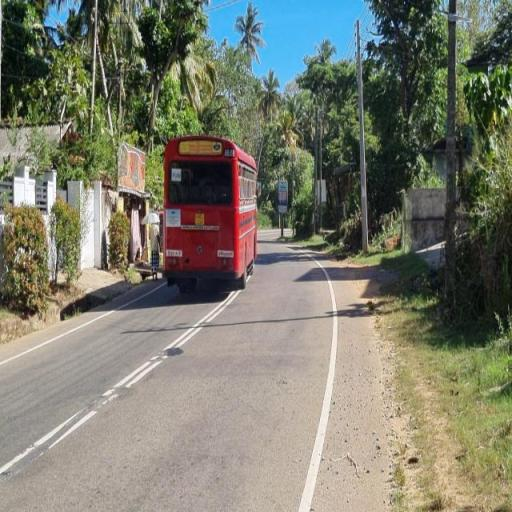double_white_line: (102, 286, 244, 405)
